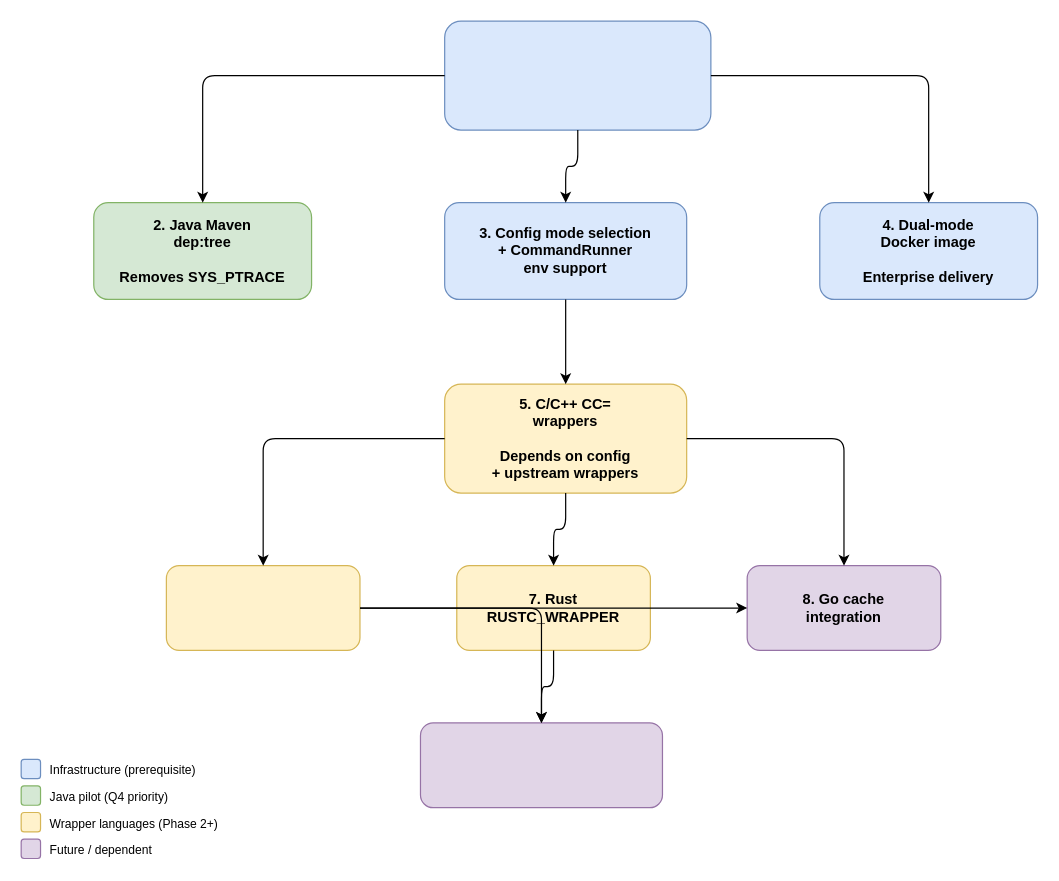
The diagram is 1059 pixels wide and 881 high, and some of its shapes have lost their labels. Each missing label, with the centre of its shape:
1. Package resolver abstraction Blocks Java + C/C++ on enterprise distros: (577,75)
6. Go -toolexec wrapper: (262,607)
9. ARM64 validation Requires wrappers first: (540,765)
